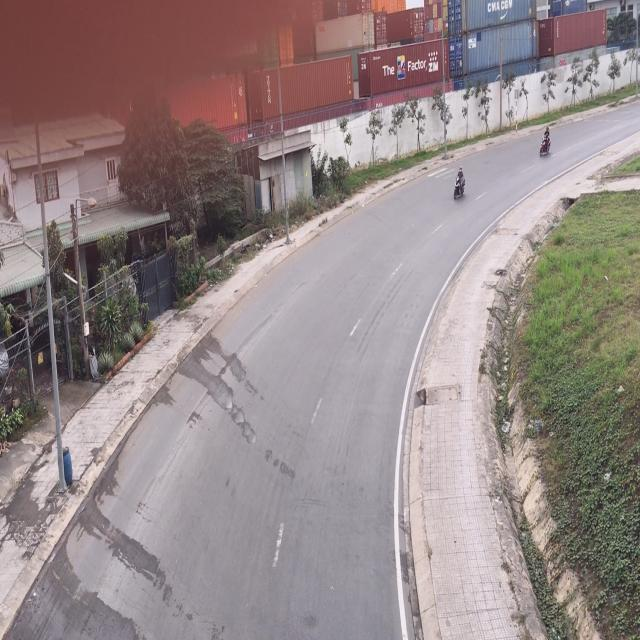motorbike: (452, 162, 466, 200), (537, 126, 551, 158)
